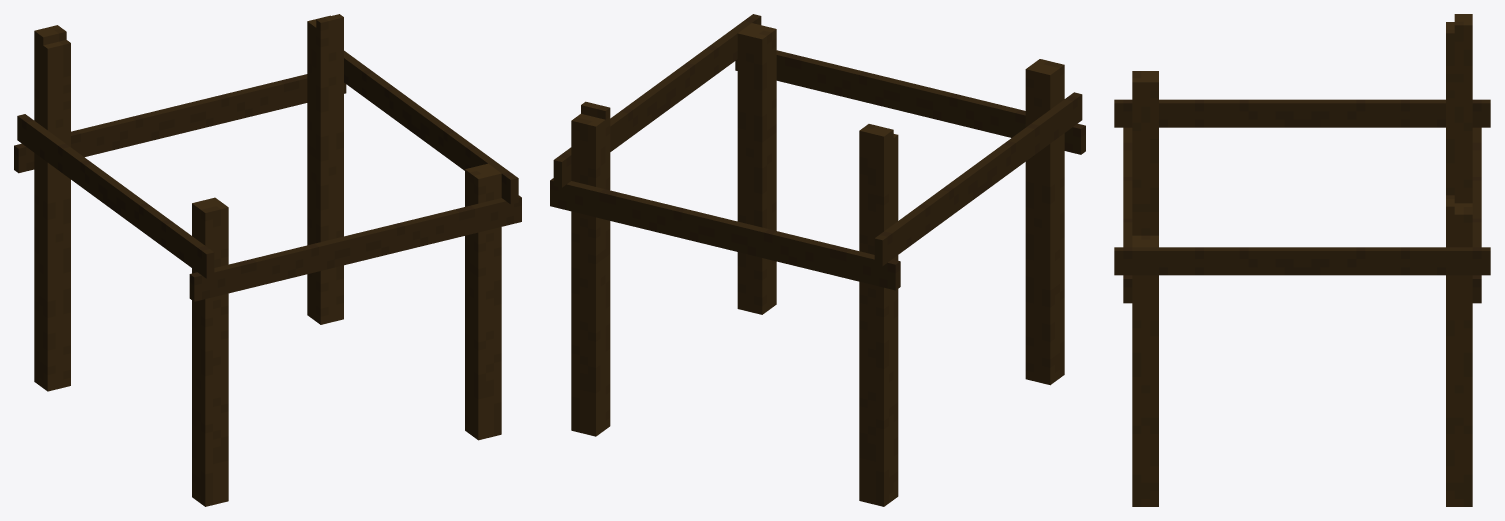
The model's file is SkeletonLair-3.obj.
3 renders of one model, left to right at view 1: azimuth 30°, elevation 25°; view 2: azimuth 150°, elevation 25°; view 3: azimuth 270°, elevation 25°, orthographic. The views are drawn at different scales.
Size of the model in its own units: 4.2 by 4.3 by 4.2.
Materials: 1 (1 with a texture image).
